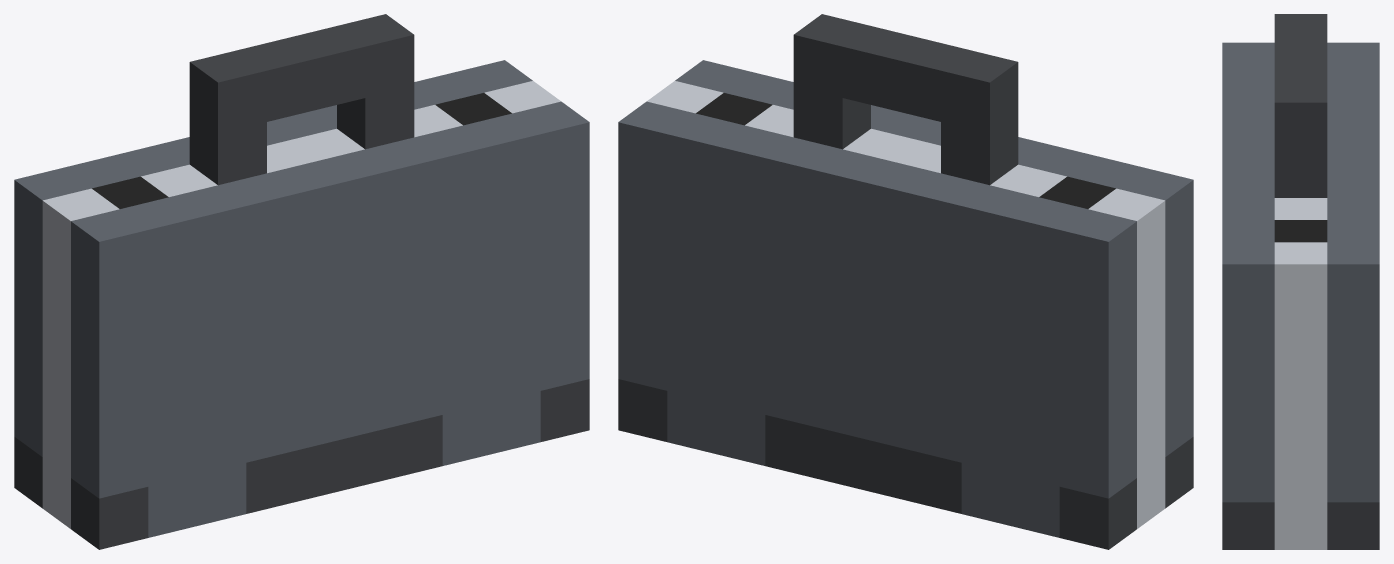
File: briefcase.obj
3 renders of one model, left to right at view 1: azimuth 30°, elevation 25°; view 2: azimuth 150°, elevation 25°; view 3: azimuth 270°, elevation 25°, orthographic. The views are drawn at different scales.
Size of the model in its own units: 1 by 0.8 by 0.3.
1 material, 1 textured.
